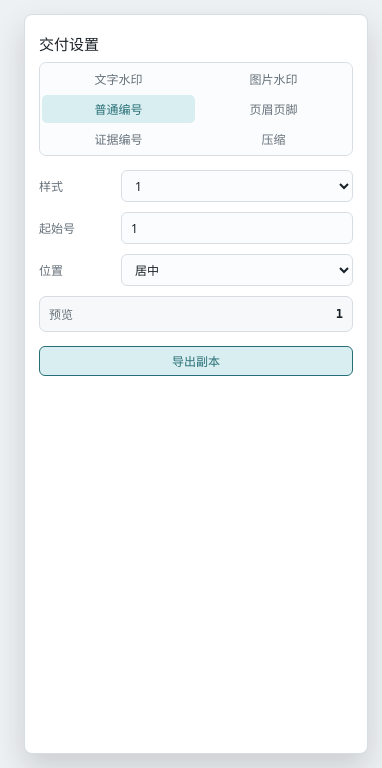
Scenario: ExportDeliveryPanel › 普通编号导出为新 PDF 副本
Select "1" in the dropdown labelled "样式": (237, 186) [121,170,353,202]
Replace the text in the number field labelled "起始号" with "3": (237, 228) [121,212,353,244]
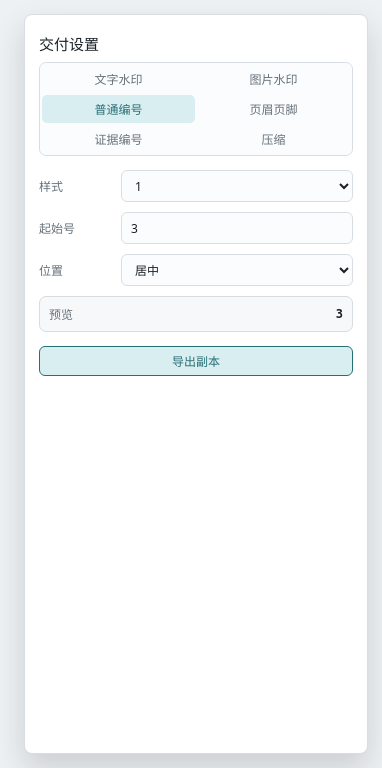
Select "右下" in the dropdown labelled "位置": (237, 270) [121,254,353,286]
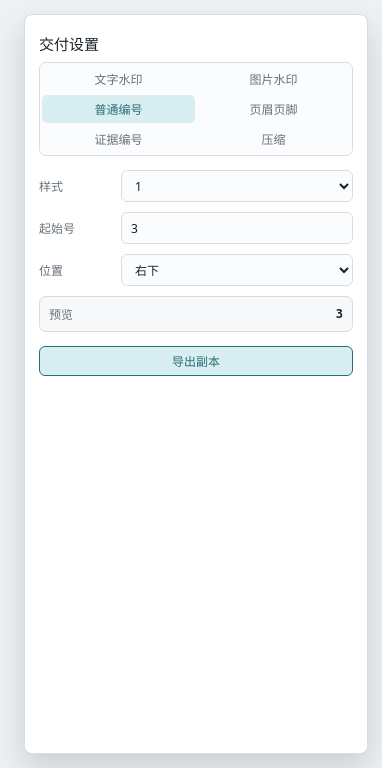
Click the button "导出副本": (196, 361) [39,346,353,376]
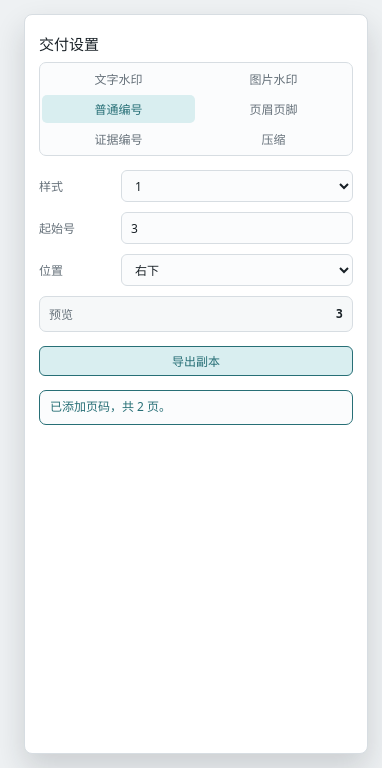
Result: the message reads "已添加页码，共 2 页。" at [50,398,171,415]
